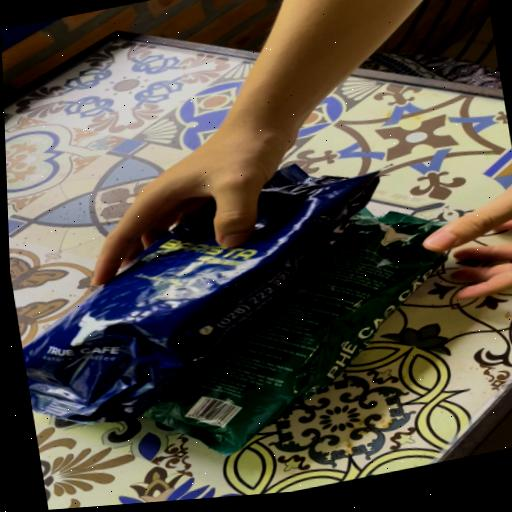cafe_hat: (22, 165, 378, 422)
cafe_xay: (145, 212, 446, 456)
